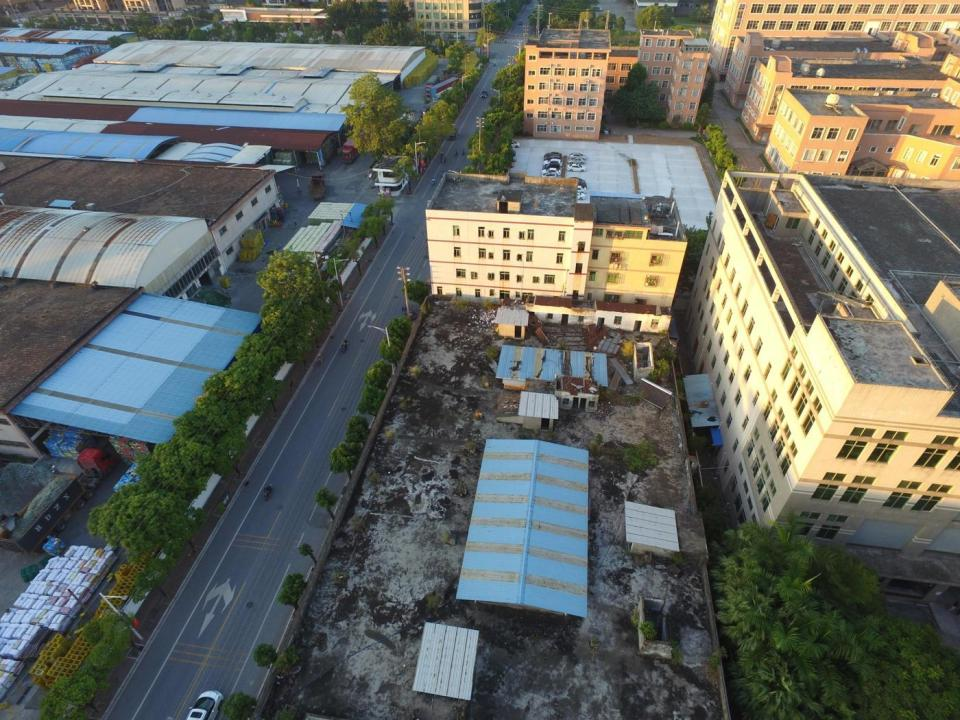bus: (448, 121, 459, 140)
car: (183, 690, 224, 720), (562, 177, 587, 187), (562, 191, 586, 200), (566, 163, 587, 173), (565, 185, 587, 194), (499, 145, 516, 156), (540, 168, 562, 176), (544, 153, 562, 162), (544, 151, 562, 160), (542, 158, 562, 166), (497, 159, 514, 168), (567, 152, 586, 160), (568, 156, 584, 165), (494, 163, 510, 172), (503, 140, 521, 148), (496, 154, 516, 161), (541, 172, 558, 180), (480, 89, 488, 98), (518, 20, 522, 25)
truck: (1, 447, 114, 553), (341, 118, 377, 163), (430, 77, 461, 106), (432, 86, 458, 112), (419, 99, 450, 118), (308, 174, 327, 202), (425, 75, 440, 97)
van: (542, 163, 561, 172), (593, 5, 603, 11)
